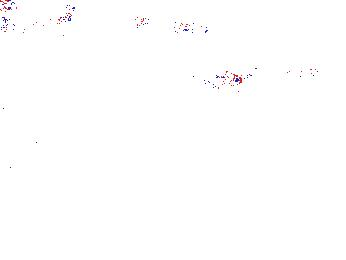red belly glassfish: (188, 68, 242, 89)
redtail glassfish: (240, 60, 321, 89), (133, 15, 215, 37), (1, 12, 77, 35)
